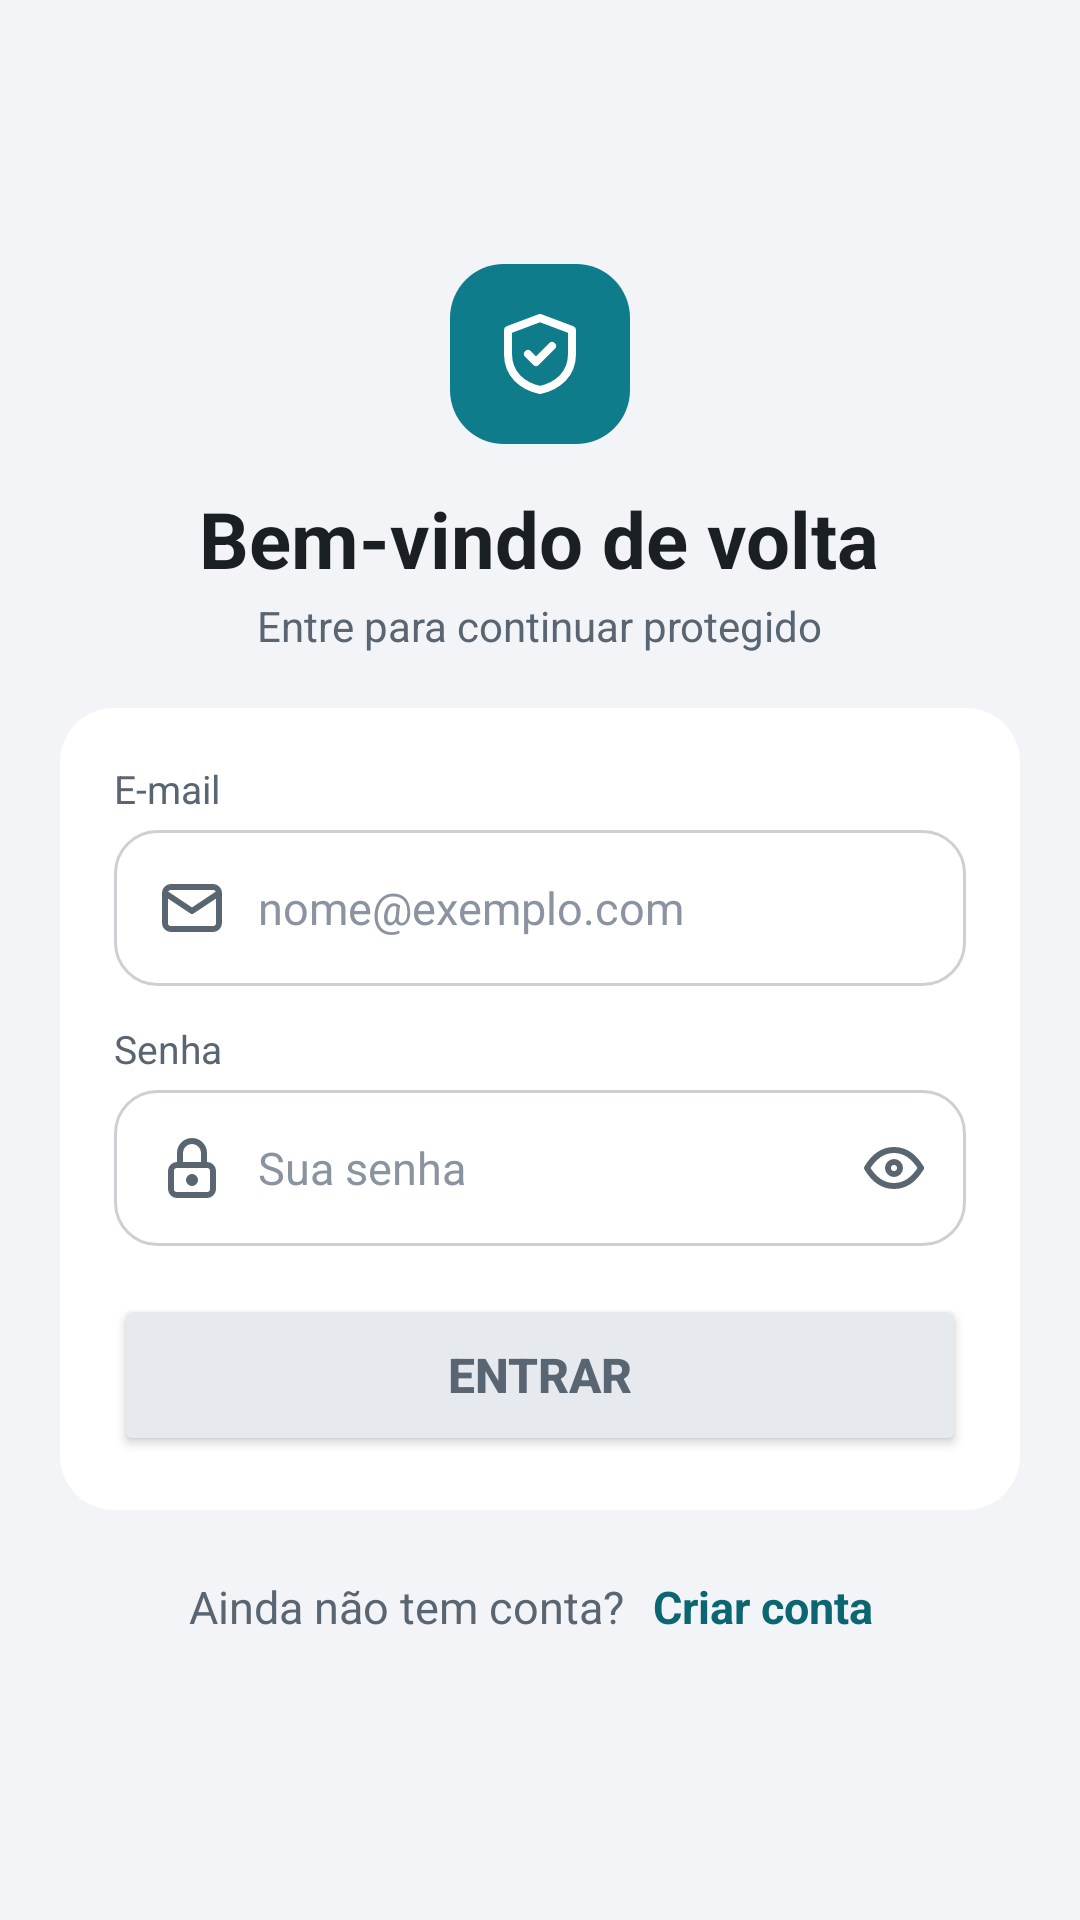

Icon click points for this 1080 × 1920 phone screenshot, format point (x, y):
escudo: point (540, 354)
